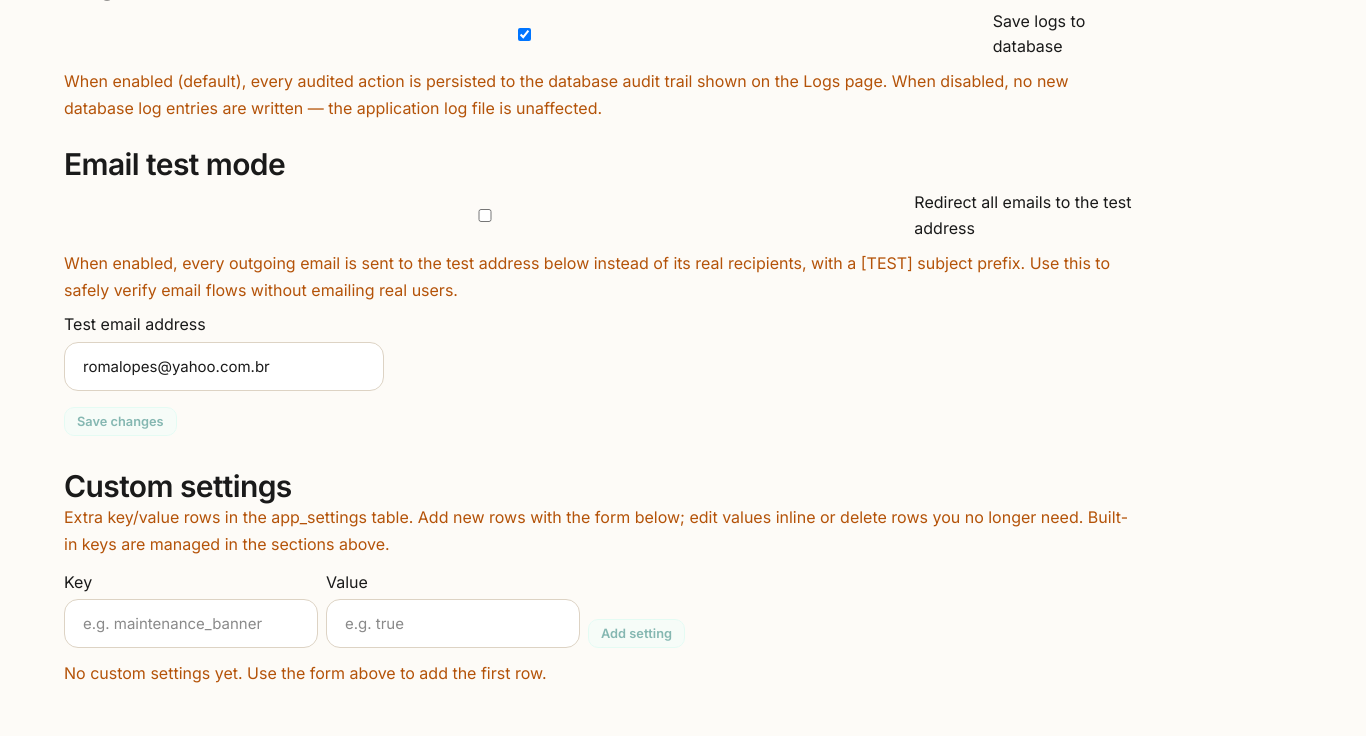
ConfigurationSettings page › adds a new custom setting row
(page scrolled)
Type "maintenance_banner" into the field with placeholder "e.g. maintenance_banner" at (191, 624), box top-left (64, 600), bottom-right (318, 648)
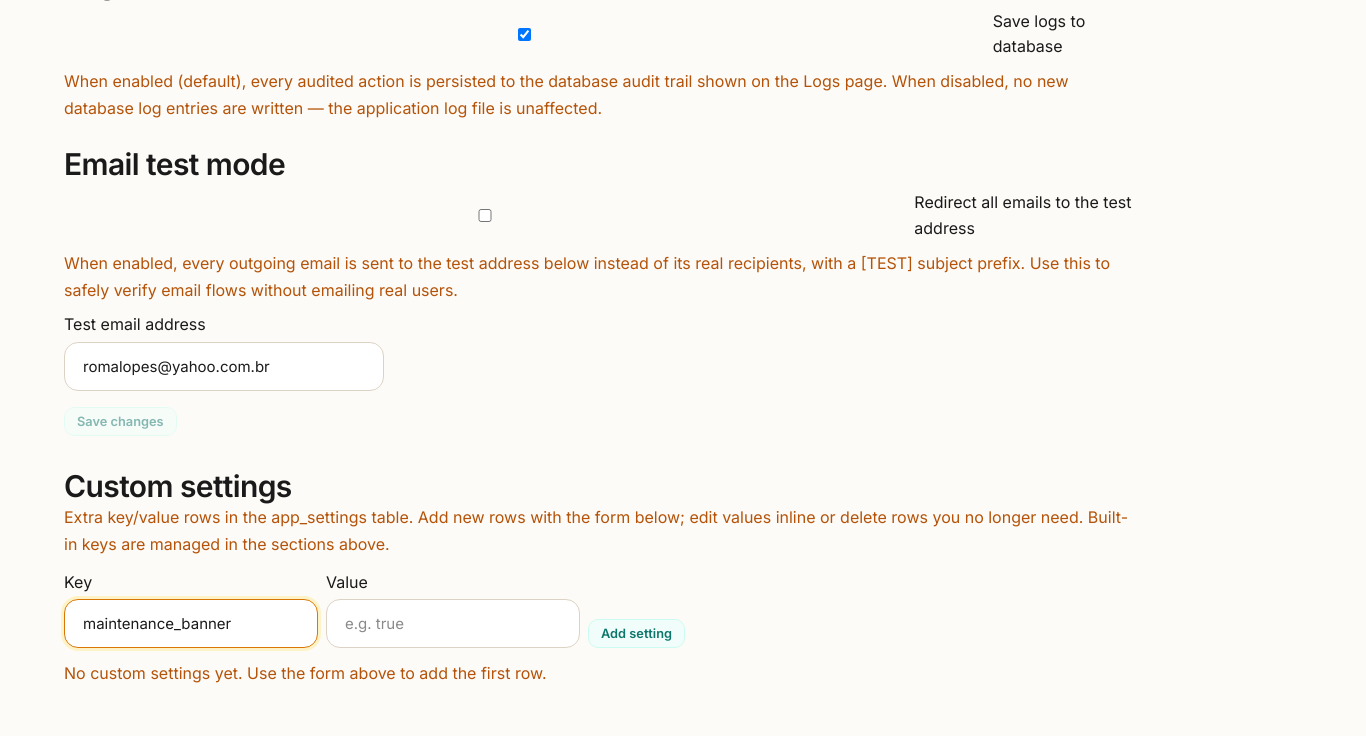
Type "true" into the field with placeholder "e.g. true" at (453, 624), box top-left (326, 600), bottom-right (580, 648)
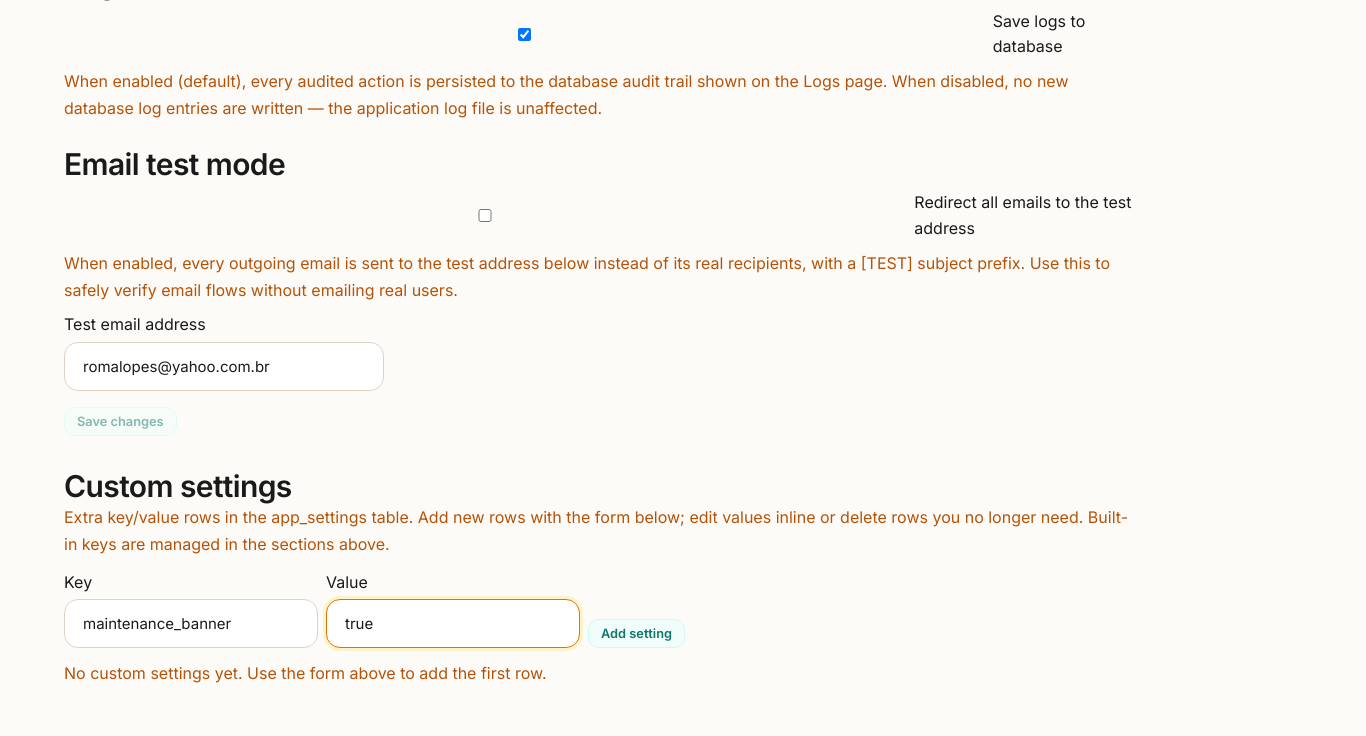
Click the button "Add setting" at (636, 634), box top-left (588, 620), bottom-right (685, 648)
(page scrolled)
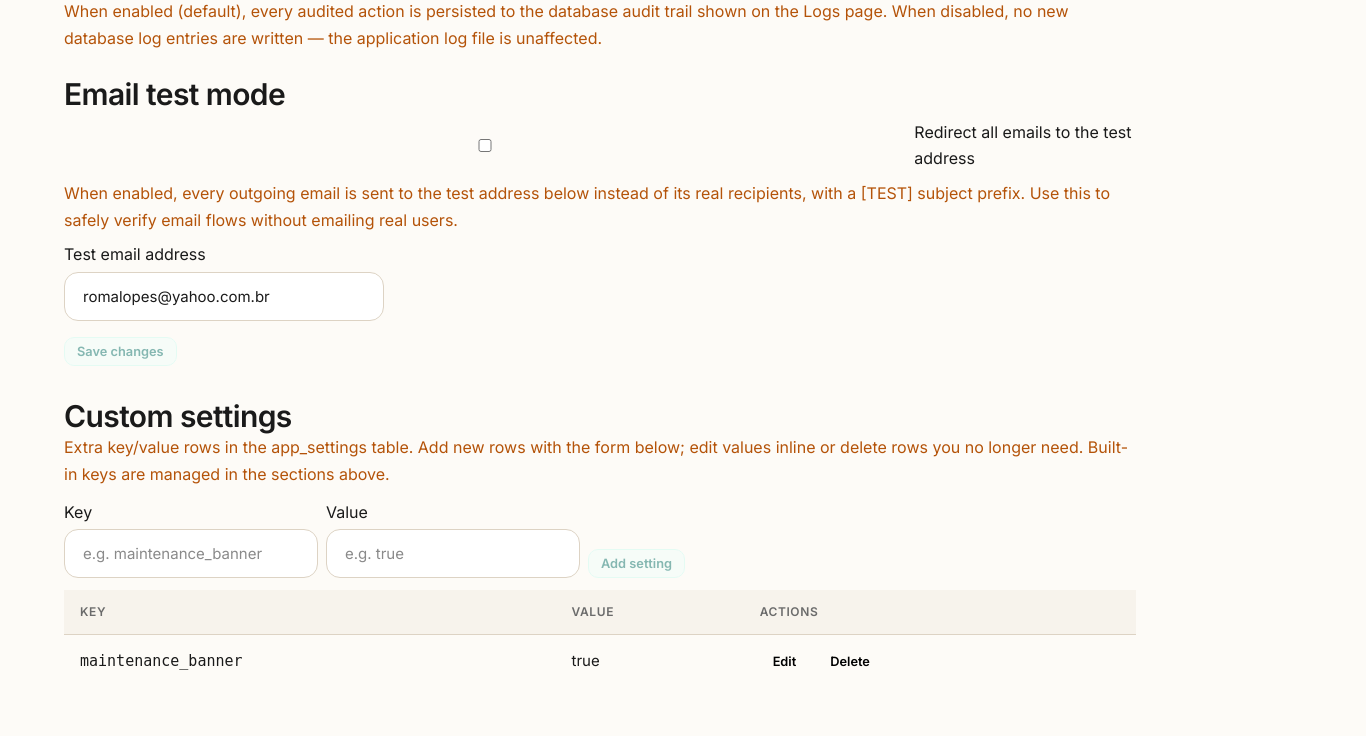
Now the text "maintenance_banner" is shown, box top-left (80, 652), bottom-right (243, 670)
